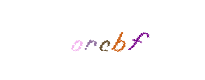B: (74, 0, 154, 80)
C: (71, 0, 151, 80)
F: (98, 0, 178, 80)
O: (62, 0, 142, 80)
R: (62, 0, 142, 80)
